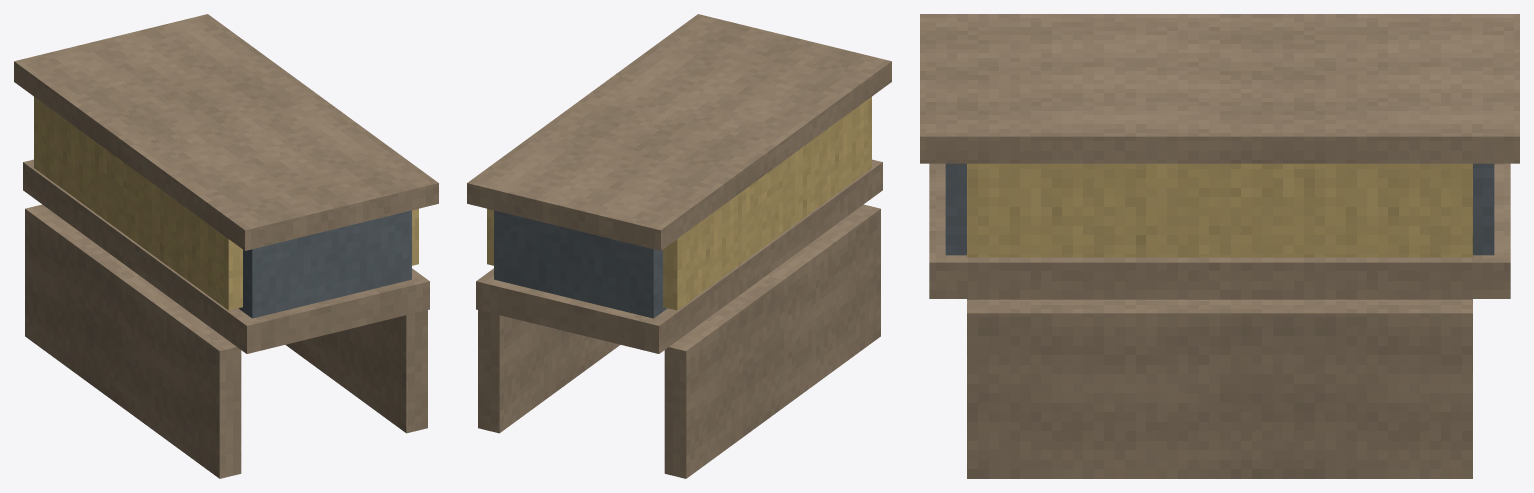
File: level_blockout_mortuary_casket_bier.glb
3 views of the same model, side by side, from view 1: azimuth 30°, elevation 25°; view 2: azimuth 150°, elevation 25°; view 3: azimuth 270°, elevation 25° (orthographic). The views are drawn at different scales.
Parts seen in each view (by area): view 1: level_blockout_mortuary_casket_bier; view 2: level_blockout_mortuary_casket_bier; view 3: level_blockout_mortuary_casket_bier.
Part boxes in pixels (x1=…): level_blockout_mortuary_casket_bier: x1=14, y1=14, x2=438, y2=478; level_blockout_mortuary_casket_bier: x1=467, y1=14, x2=891, y2=478; level_blockout_mortuary_casket_bier: x1=920, y1=14, x2=1519, y2=478.
Bounding box in the file's own units: 1.16 × 1.38 × 2.23.
Materials: 3 (3 with a texture image).
